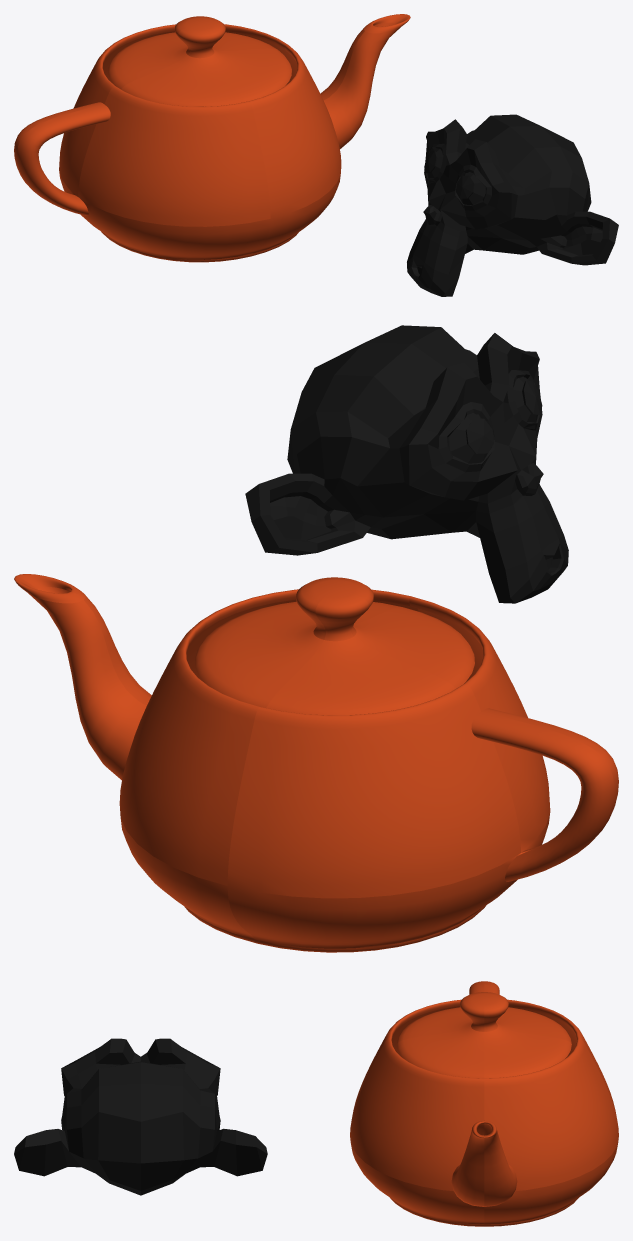
The model's file is teapot.obj.
The picture shows the model from 3 angles, top to bottom: view 1: azimuth 30°, elevation 25°; view 2: azimuth 150°, elevation 25°; view 3: azimuth 270°, elevation 25°; orthographic projection. The views are drawn at different scales.
Visible parts, largest first — view 1: teapot, Suzanne; view 2: teapot, Suzanne; view 3: teapot, Suzanne.
Part boxes in pixels (x1=…): teapot: x1=14, y1=14, x2=410, y2=262; Suzanne: x1=407, y1=114, x2=618, y2=296; teapot: x1=14, y1=574, x2=618, y2=952; Suzanne: x1=245, y1=325, x2=568, y2=603; teapot: x1=350, y1=981, x2=618, y2=1226; Suzanne: x1=14, y1=1038, x2=267, y2=1195.
Size of what is drawn, in the model's own units: 2.7 by 1.34 by 3.78.
